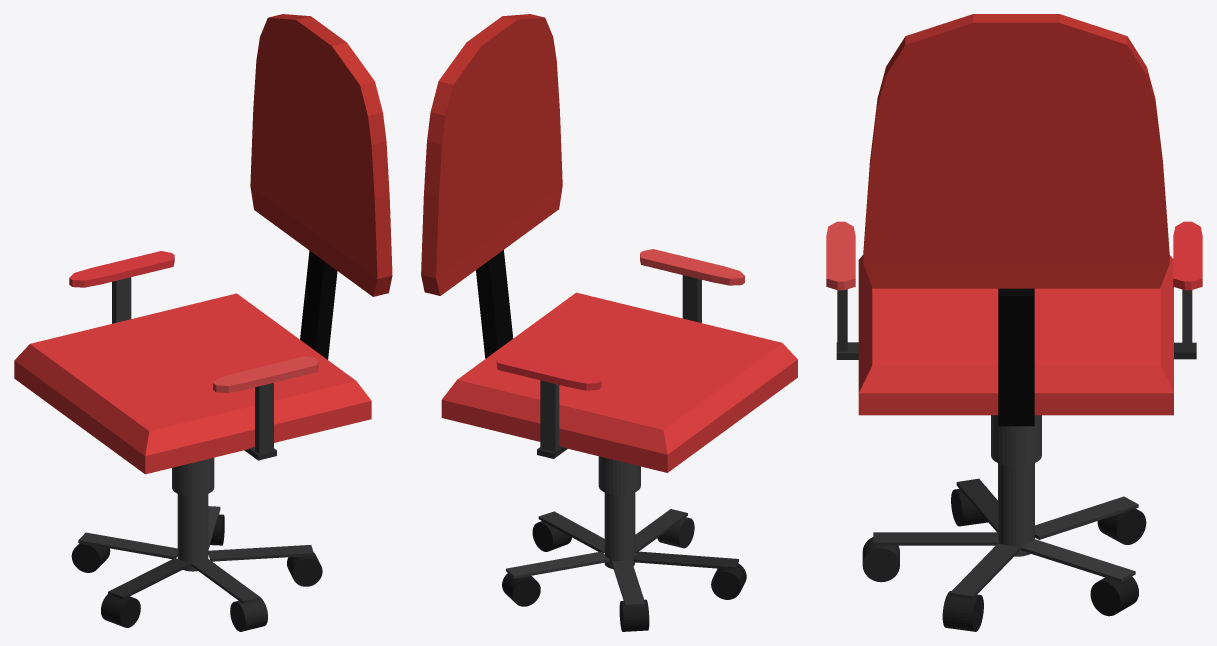
Rendered from Desk Chair.fbx.
3 renders of one model, left to right at view 1: azimuth 30°, elevation 25°; view 2: azimuth 150°, elevation 25°; view 3: azimuth 270°, elevation 25°, orthographic. The views are drawn at different scales.
Visible parts, largest first — view 1: Cube.005, Cube.007, Cylinder.005, Cube.006, Cube.012, Cube.013, Cube.010, Cube.001, Cube.004, Cube.003, Cube, Cylinder.001 (+4 smaller); view 2: Cube.005, Cube.007, Cylinder.005, Cube.006, Cube.012, Cube.013, Cube.011, Cube.003, Cube.002, Cube.001, Cube.004, Cylinder.003 (+6 smaller); view 3: Cube.007, Cube.005, Cylinder.005, Cube.006, Cube.012, Cube.013, Cube, Cube.002, Cube.004, Cube.001, Cylinder.003, Cylinder.004 (+6 smaller).
Part boxes in pixels (x1,y1,x2,y2): Cube.005: (14, 293, 371, 474); Cube.007: (250, 14, 392, 296); Cylinder.005: (172, 457, 214, 571); Cube.006: (300, 250, 337, 359); Cube.012: (69, 251, 174, 287); Cube.013: (213, 356, 318, 392); Cube.010: (255, 383, 273, 454); Cube.001: (208, 545, 313, 561); Cube.004: (78, 532, 177, 559); Cube.003: (108, 558, 190, 599); Cube: (191, 559, 260, 603); Cylinder.001: (101, 594, 140, 627); Cube.005: (441, 292, 797, 472); Cube.007: (421, 14, 562, 295); Cylinder.005: (598, 456, 640, 569); Cube.006: (476, 250, 513, 358); Cube.012: (496, 354, 601, 390); Cube.013: (640, 249, 744, 285); Cube.011: (540, 380, 559, 451); Cube.003: (633, 551, 738, 569); Cube.002: (506, 551, 609, 578); Cube.001: (538, 511, 604, 553); Cube.004: (612, 560, 645, 607); Cylinder.003: (502, 573, 540, 606); Cube.007: (863, 14, 1169, 288); Cube.005: (858, 255, 1173, 415); Cylinder.005: (991, 415, 1041, 556); Cube.006: (998, 288, 1034, 426); Cube.012: (1173, 221, 1202, 290); Cube.013: (826, 221, 855, 290); Cube: (873, 532, 998, 545); Cube.002: (1021, 539, 1135, 582); Cube.004: (1035, 496, 1138, 539); Cube.001: (950, 543, 1019, 599); Cylinder.003: (1090, 576, 1138, 616); Cylinder.004: (942, 591, 983, 631).
Bounding box in the file's own units: 726 × 1449 × 781.
